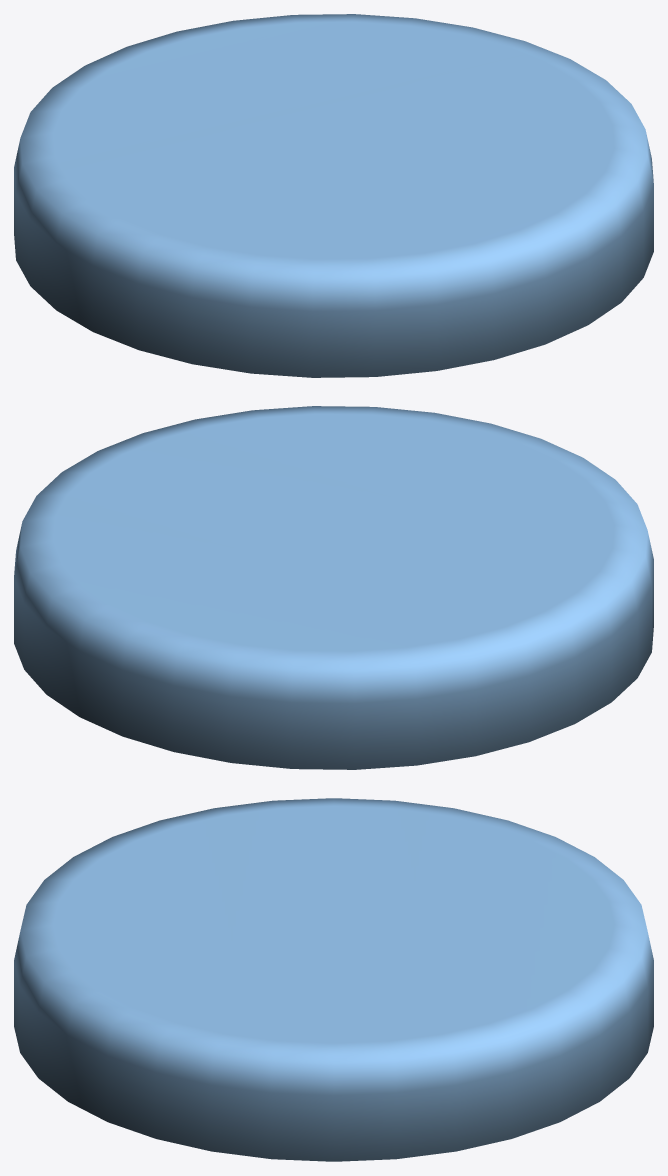
Rendered from Medium_VCilinder.fbx.
3 renders of one model, top to bottom at view 1: azimuth 30°, elevation 25°; view 2: azimuth 150°, elevation 25°; view 3: azimuth 270°, elevation 25°, orthographic.
Visible parts, largest first — view 1: Circle.005; view 2: Circle.005; view 3: Circle.005.
Boxes of the visible parts, left/top/right/bottom form: Circle.005: left=14, top=14, right=653, bottom=377; Circle.005: left=14, top=406, right=653, bottom=769; Circle.005: left=14, top=798, right=653, bottom=1161.
Bounding box in the file's own units: 200 × 35.08 × 200.
